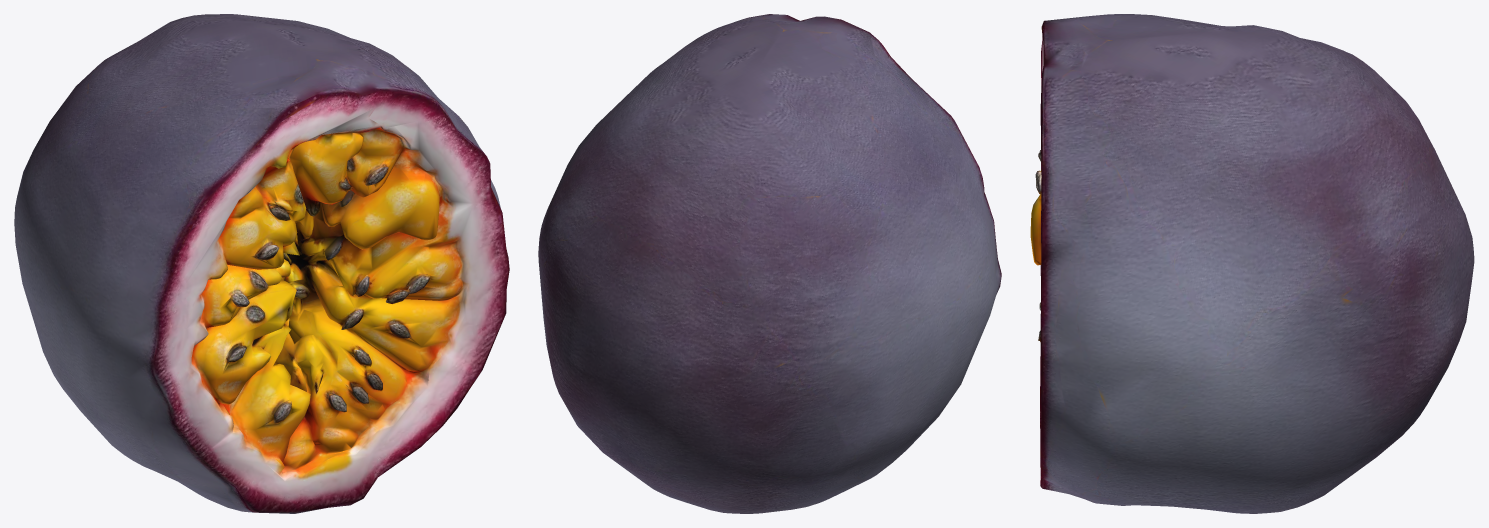
File: f-passion-half.glb
The picture shows the model from 3 angles, left to right: view 1: azimuth 30°, elevation 25°; view 2: azimuth 150°, elevation 25°; view 3: azimuth 270°, elevation 25°; orthographic projection. The views are drawn at different scales.
Visible parts, largest first — view 1: node_0; view 2: node_0; view 3: node_0.
Boxes of the visible parts, x1=… form: node_0: x1=14, y1=14, x2=509, y2=513; node_0: x1=538, y1=14, x2=1001, y2=513; node_0: x1=1030, y1=14, x2=1474, y2=513.
Bounding box in the file's own units: 0.9044 × 0.9368 × 0.813.
Materials: 1 (1 with a texture image).
